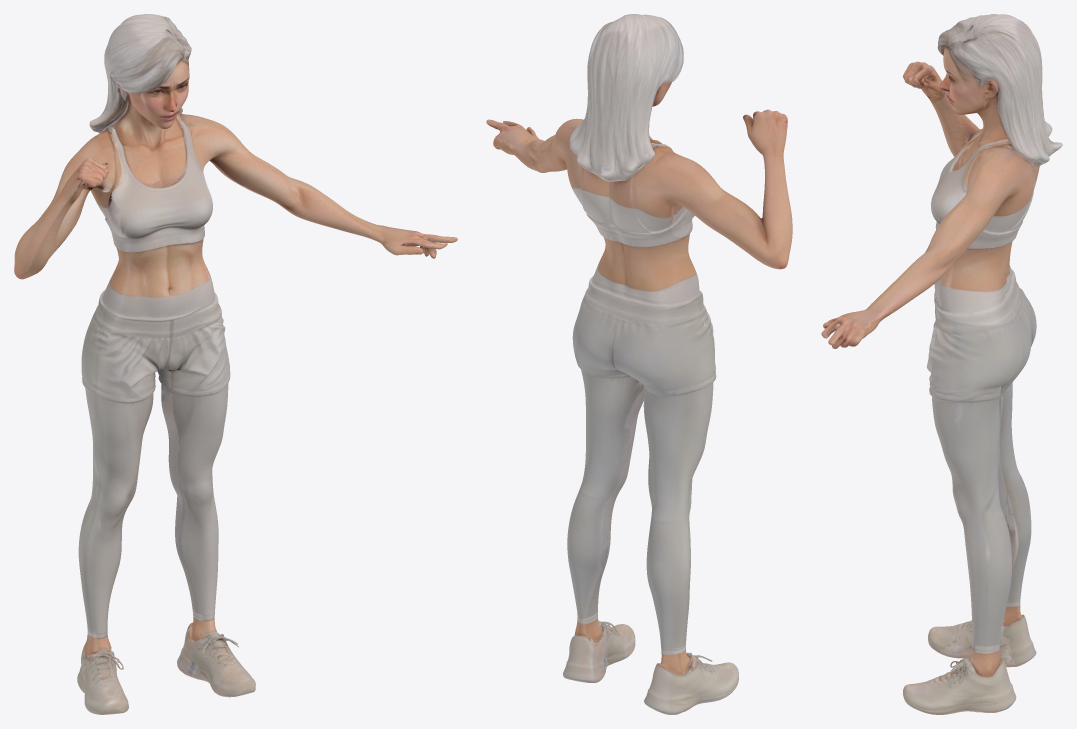
Rendered from lindqvist.glb.
3 views of the same model, side by side, from view 1: azimuth 30°, elevation 25°; view 2: azimuth 150°, elevation 25°; view 3: azimuth 270°, elevation 25° (orthographic).
Visible parts, largest first — view 1: Object_5, Object_6; view 2: Object_6, Object_5; view 3: Object_5, Object_6.
Boxes of the visible parts, bbox=[...] form: Object_5: bbox=[14, 16, 457, 714]; Object_6: bbox=[16, 14, 243, 699]; Object_6: bbox=[543, 14, 787, 714]; Object_5: bbox=[486, 15, 792, 705]; Object_5: bbox=[821, 20, 1038, 714]; Object_6: bbox=[961, 14, 1062, 712].
Size of the model in its own units: 1.1 by 1.9 by 0.6246.
Materials: 1 (1 with a texture image).
